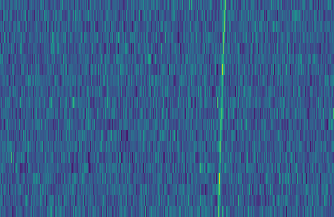signal: (214, 0, 230, 217)
